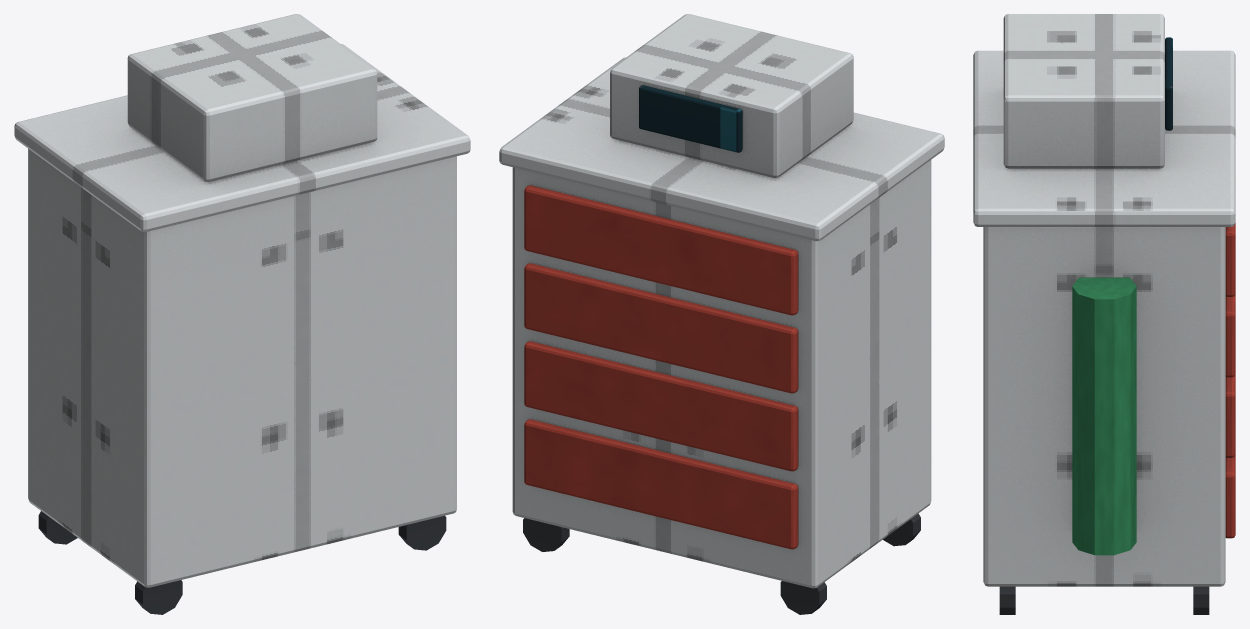
File: base_crash_cart.glb
3 views of the same model, side by side, from view 1: azimuth 30°, elevation 25°; view 2: azimuth 150°, elevation 25°; view 3: azimuth 270°, elevation 25° (orthographic). The views are drawn at different scales.
Visible parts, largest first — view 1: base_crash_cart; view 2: base_crash_cart; view 3: base_crash_cart.
Part boxes in pixels (box(x1,y1,x2,y2)): base_crash_cart: box(14, 14, 470, 614); base_crash_cart: box(499, 14, 944, 614); base_crash_cart: box(973, 14, 1235, 614).
Size of the model in its own units: 1.05 by 1.35 by 0.65.
Materials: 5 (5 with a texture image).
